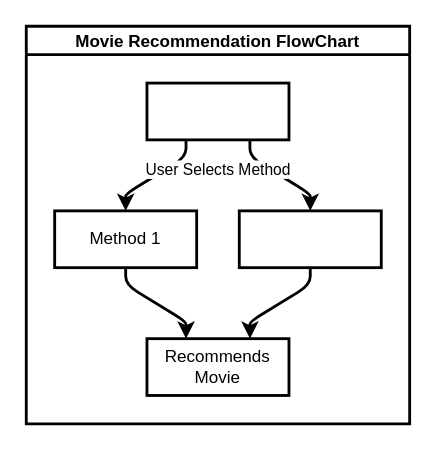
The diagram is 435 pixels wide and 449 high, and some of its shapes have lost their labels. The box of each missing label's shape, as (x1, y1, x2, y2) in pixels:
Method 2: (237, 209, 382, 268)
User Selects 5 Movies: (145, 81, 290, 141)
